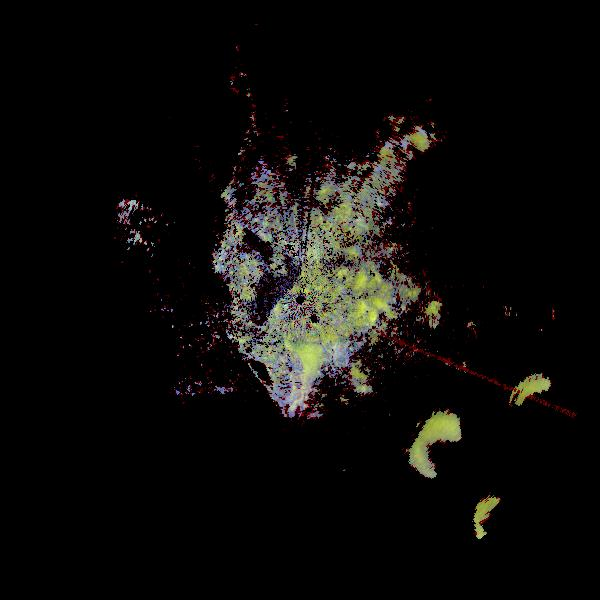roost: (397, 395, 517, 515), (249, 328, 342, 421), (505, 365, 592, 452), (463, 481, 544, 562), (246, 156, 291, 201)
